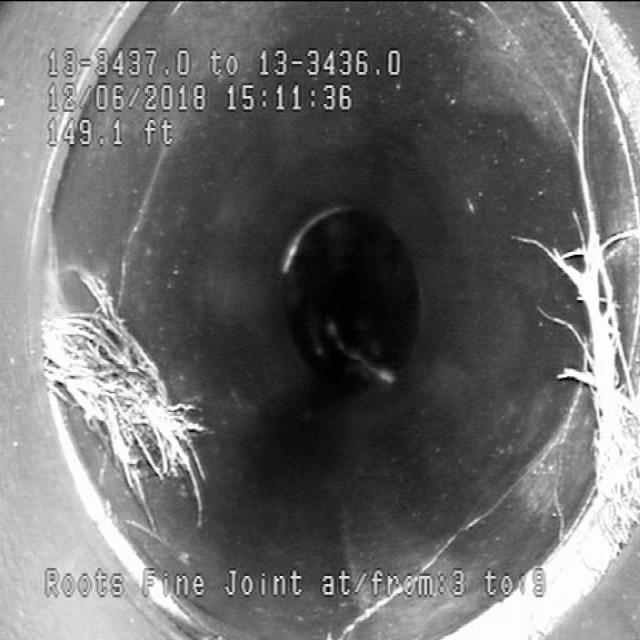Crack: (400, 386, 574, 564)
